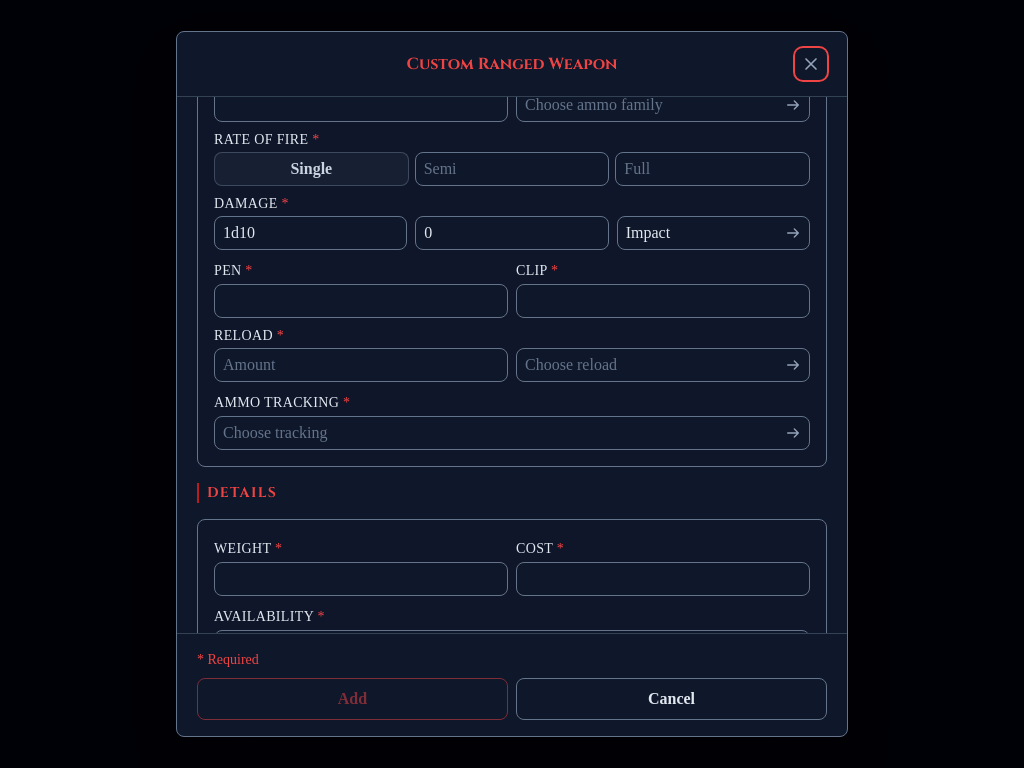
Test: CustomRangedForm › disables and clears the reload amount field when reload type is Special
This screenshot has width=1024, height=768.
(page scrolled)
Type "4" into the field with placeholder "Amount" at [361, 365], box [214,348,508,382]
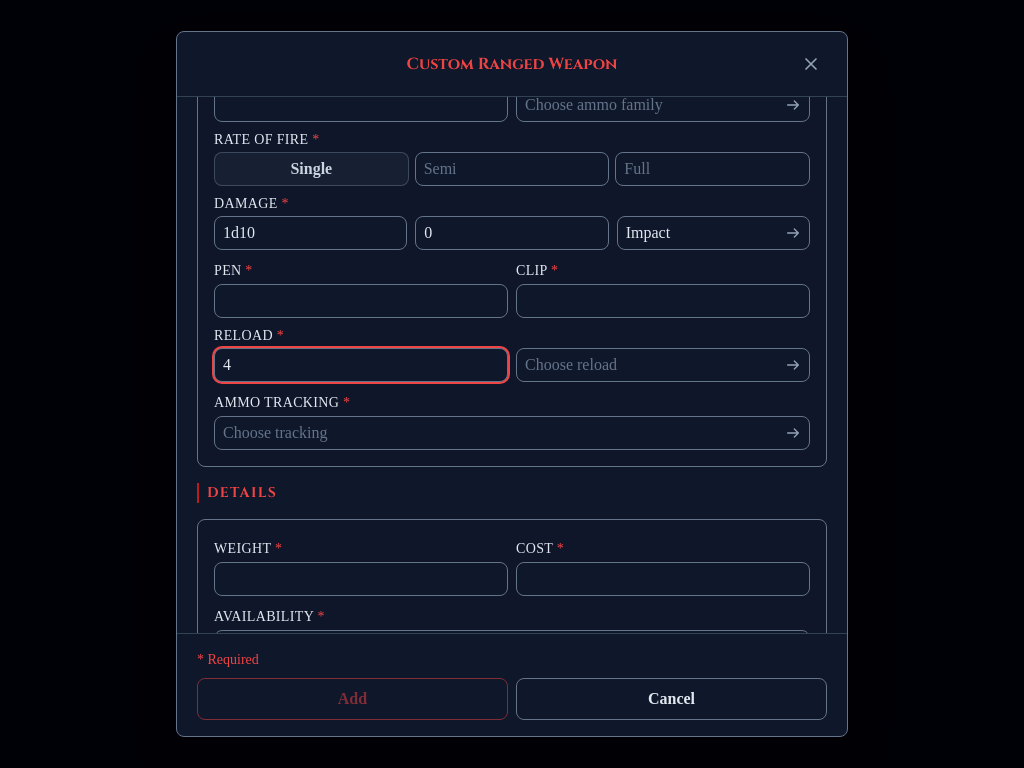
Click the button "Choose reload" at [571, 364], box [516,348,810,382]
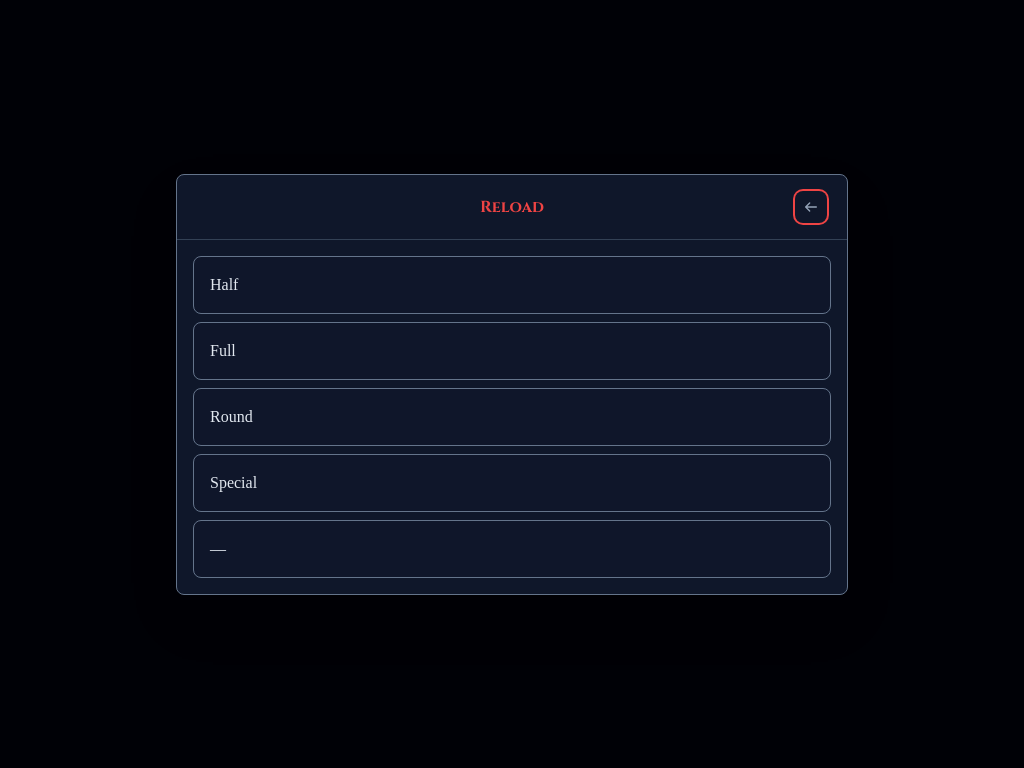
Click the button "Special" at [234, 482], box [193,454,831,512]
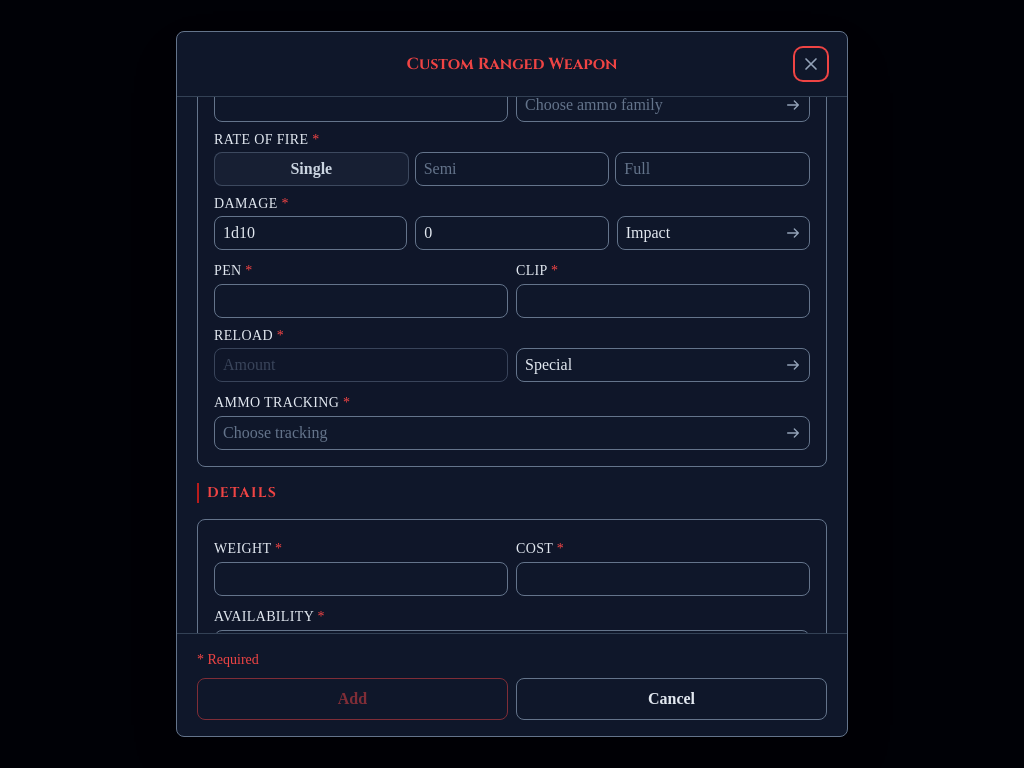
Now the field with placeholder "Amount" is disabled, box [214,348,508,382]
Now the field with placeholder "Amount" is empty, box [214,348,508,382]
